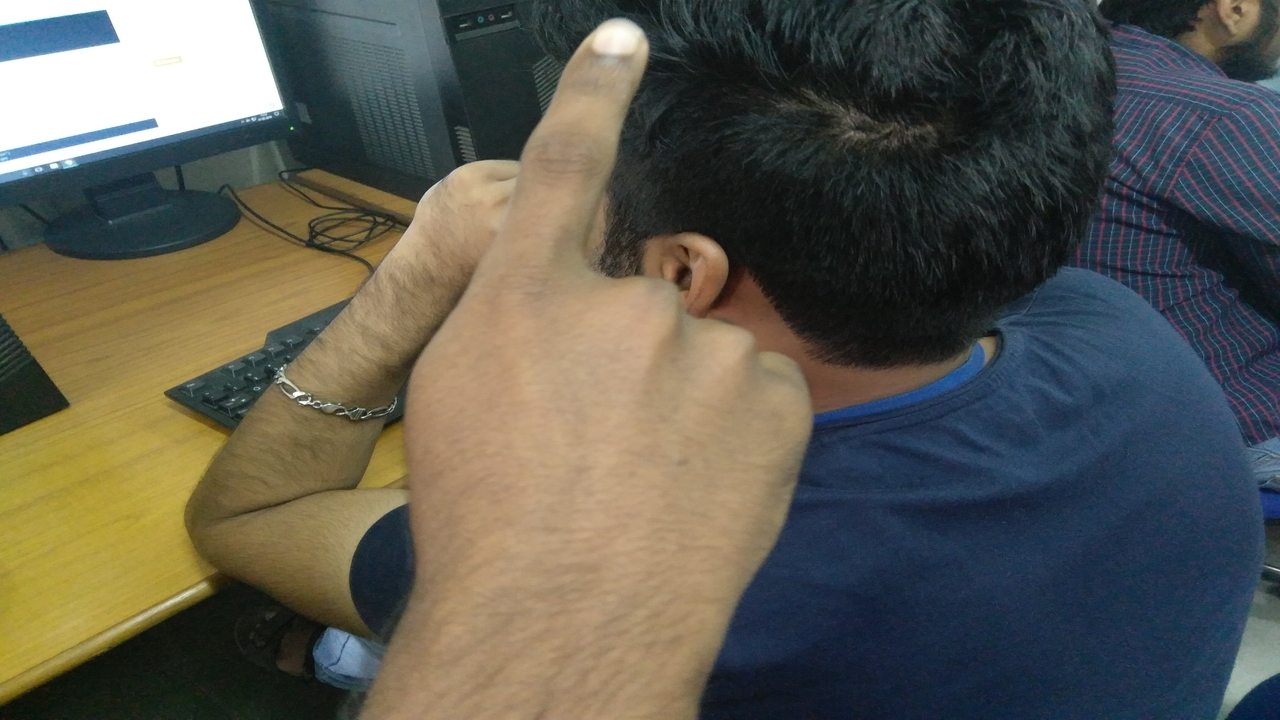fingertip: (580, 18, 654, 76)
